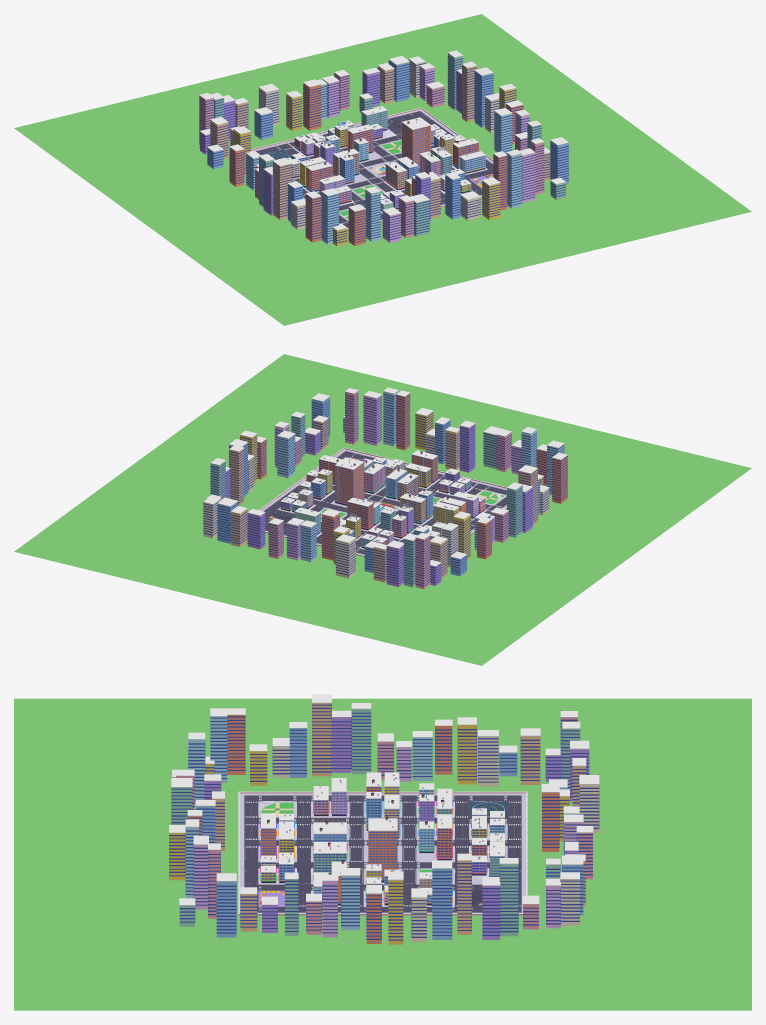
The model's file is city.glb.
3 renders of one model, top to bottom at view 1: azimuth 30°, elevation 25°; view 2: azimuth 150°, elevation 25°; view 3: azimuth 270°, elevation 25°, orthographic. The views are drawn at different scales.
Parts seen in each view (by area): view 1: city_outskirts, city_streets, city_block_3_2, city_block_4_3, city_marks1, city_block_0_2, city_block_2_1, city_block_1_2, city_block_2_3, city_block_3_3, city_block_3_0, city_block_0_3 (+1 smaller); view 2: city_outskirts, city_streets, city_block_3_2, city_block_1_1, city_block_2_4, city_block_2_3, city_block_2_1, city_block_1_2, city_block_4_2, city_block_3_3, city_block_0_2, city_block_1_4 (+2 smaller); view 3: city_outskirts, city_streets, city_marks1, city_block_3_2, city_block_2_1, city_block_0_3, city_block_2_4, city_block_1_2, city_block_3_4, city_block_3_3, city_block_1_1, city_block_0_2 (+7 smaller).
Boxes of the visible parts, <box> form: city_outskirts: <box>14,14,751,325</box>; city_streets: <box>250,109,493,228</box>; city_block_3_2: <box>401,117,430,167</box>; city_block_4_3: <box>452,138,487,175</box>; city_marks1: <box>261,114,493,223</box>; city_block_0_2: <box>299,157,332,192</box>; city_block_2_1: <box>347,124,382,163</box>; city_block_1_2: <box>332,149,368,185</box>; city_block_2_3: <box>383,156,418,190</box>; city_block_3_3: <box>419,146,452,175</box>; city_block_3_0: <box>361,106,396,140</box>; city_block_0_3: <box>319,175,354,205</box>; city_outskirts: <box>14,354,751,665</box>; city_streets: <box>247,449,506,555</box>; city_block_3_2: <box>330,457,368,507</box>; city_block_1_1: <box>380,503,414,539</box>; city_block_2_4: <box>405,450,440,489</box>; city_block_2_3: <box>383,468,418,501</box>; city_block_2_1: <box>347,497,380,531</box>; city_block_1_2: <box>400,489,433,525</box>; city_block_4_2: <box>299,469,334,501</box>; city_block_3_3: <box>358,458,385,495</box>; city_block_0_2: <box>433,497,466,524</box>; city_block_1_4: <box>436,468,473,495</box>; city_outskirts: <box>14,694,751,1010</box>; city_streets: <box>239,793,526,913</box>; city_marks1: <box>245,796,520,910</box>; city_block_3_2: <box>363,816,402,884</box>; city_block_2_1: <box>416,814,454,862</box>; city_block_0_3: <box>311,778,349,817</box>; city_block_2_4: <box>258,814,296,862</box>; city_block_1_2: <box>363,792,402,839</box>; city_block_3_4: <box>258,852,296,884</box>; city_block_3_3: <box>311,841,347,884</box>; city_block_1_1: <box>416,789,454,839</box>; city_block_0_2: <box>363,772,402,817</box>.
Size of the model in its own units: 840 by 94.5 by 840.
